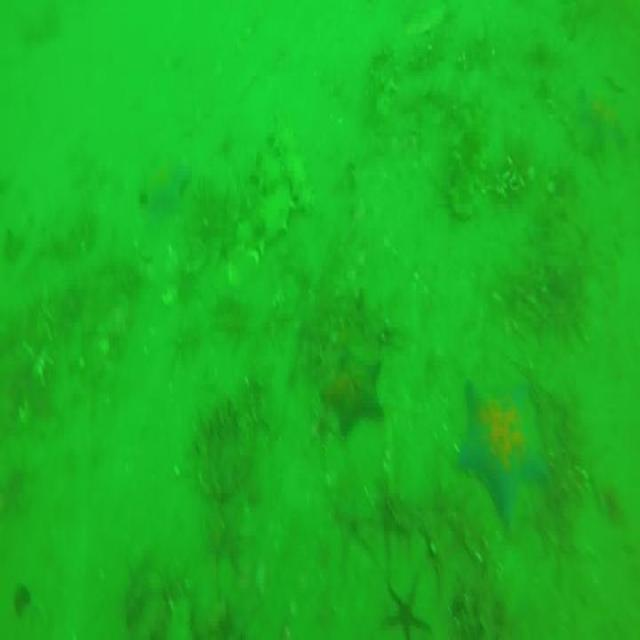holothurian: (255, 108, 311, 248), (453, 76, 492, 210)
scallop: (454, 344, 550, 528), (324, 335, 383, 433), (374, 581, 436, 640), (141, 149, 193, 218), (580, 84, 626, 153)
